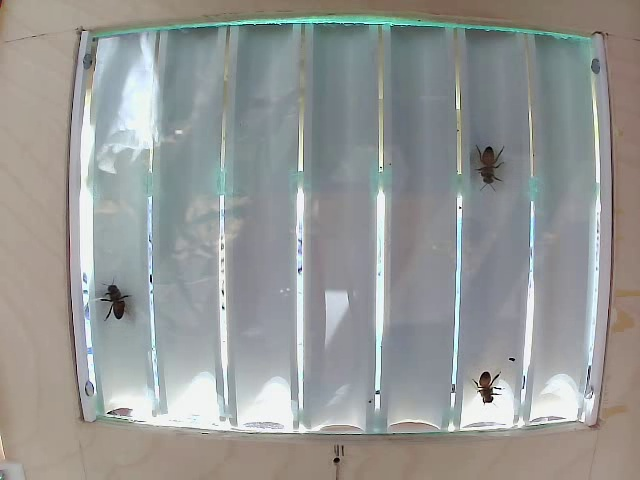bee: (463, 143, 520, 189), (469, 356, 503, 409), (91, 279, 136, 309)
